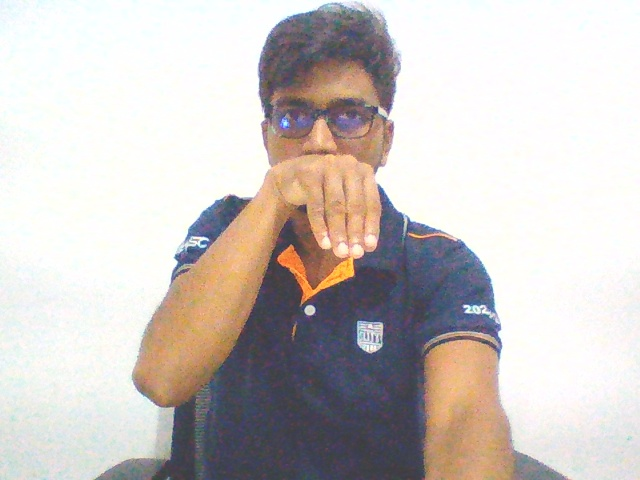Squirrel: (261, 147, 389, 266)
